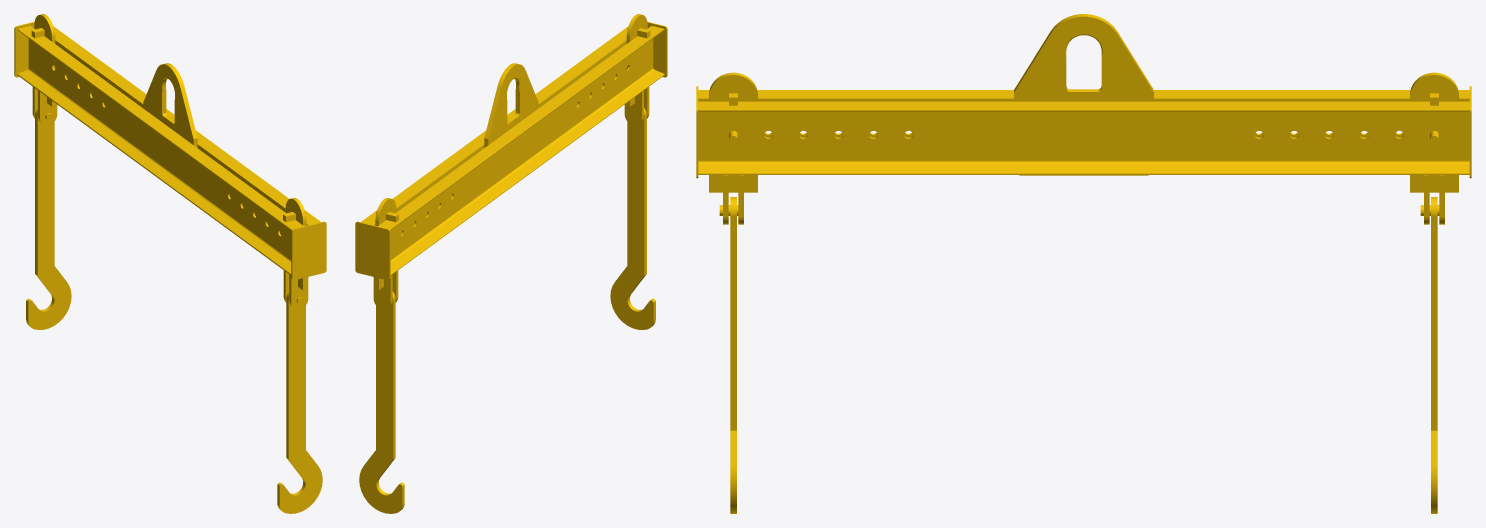
Rendered from BCL-PBP-1P.glb.
3 views of the same model, side by side, from view 1: azimuth 30°, elevation 25°; view 2: azimuth 150°, elevation 25°; view 3: azimuth 270°, elevation 25° (orthographic). The views are drawn at different scales.
Parts seen in each view (by area): view 1: ce 8x13-2, Pieza22^Ensamblaje3-1, Pieza22^Ensamblaje3-2, ce 8x13-1, Pieza18^Ensamblaje3-1, Pieza19^Ensamblaje3-2, Pieza19^Ensamblaje3-1, Pieza20^Ensamblaje3-1, Pieza21^Ensamblaje3-1, Pieza21^Ensamblaje3-3, Pieza20^Ensamblaje3-2; view 2: ce 8x13-2, Pieza22^Ensamblaje3-2, Pieza22^Ensamblaje3-1, ce 8x13-1, Pieza18^Ensamblaje3-1, Pieza19^Ensamblaje3-1, Pieza19^Ensamblaje3-2, Pieza20^Ensamblaje3-2, Pieza21^Ensamblaje3-4, Pieza21^Ensamblaje3-2, Pieza20^Ensamblaje3-1; view 3: ce 8x13-1, Pieza18^Ensamblaje3-1, ce 8x13-2, Pieza22^Ensamblaje3-1, Pieza22^Ensamblaje3-2, Pieza20^Ensamblaje3-1, Pieza20^Ensamblaje3-2.
Part boxes in pixels (x1=…): ce 8x13-2: x1=17, y1=26, x2=303, y2=275; Pieza22^Ensamblaje3-1: x1=277, y1=291, x2=322, y2=513; Pieza22^Ensamblaje3-2: x1=26, y1=108, x2=71, y2=329; ce 8x13-1: x1=53, y1=26, x2=320, y2=234; Pieza18^Ensamblaje3-1: x1=143, y1=63, x2=197, y2=147; Pieza19^Ensamblaje3-2: x1=291, y1=221, x2=326, y2=280; Pieza19^Ensamblaje3-1: x1=14, y1=21, x2=34, y2=77; Pieza20^Ensamblaje3-1: x1=285, y1=198, x2=306, y2=290; Pieza21^Ensamblaje3-1: x1=289, y1=274, x2=308, y2=309; Pieza21^Ensamblaje3-3: x1=38, y1=90, x2=57, y2=125; Pieza20^Ensamblaje3-2: x1=34, y1=14, x2=55, y2=106; ce 8x13-2: x1=378, y1=26, x2=664, y2=275; Pieza22^Ensamblaje3-2: x1=359, y1=291, x2=404, y2=513; Pieza22^Ensamblaje3-1: x1=610, y1=108, x2=655, y2=329; ce 8x13-1: x1=361, y1=26, x2=628, y2=234; Pieza18^Ensamblaje3-1: x1=484, y1=63, x2=538, y2=147; Pieza19^Ensamblaje3-1: x1=355, y1=221, x2=390, y2=280; Pieza19^Ensamblaje3-2: x1=647, y1=21, x2=667, y2=77; Pieza20^Ensamblaje3-2: x1=375, y1=198, x2=396, y2=290; Pieza21^Ensamblaje3-4: x1=373, y1=274, x2=392, y2=309; Pieza21^Ensamblaje3-2: x1=624, y1=90, x2=643, y2=125; Pieza20^Ensamblaje3-1: x1=626, y1=14, x2=647, y2=106; ce 8x13-1: x1=698, y1=101, x2=1469, y2=174; Pieza18^Ensamblaje3-1: x1=1014, y1=14, x2=1153, y2=175; ce 8x13-2: x1=698, y1=90, x2=1469, y2=137; Pieza22^Ensamblaje3-1: x1=730, y1=197, x2=736, y2=513; Pieza22^Ensamblaje3-2: x1=1431, y1=197, x2=1437, y2=513; Pieza20^Ensamblaje3-1: x1=709, y1=72, x2=757, y2=192; Pieza20^Ensamblaje3-2: x1=1410, y1=72, x2=1458, y2=192.
Bounding box in the file's own units: 0.1985 × 1.56 × 2.21.
